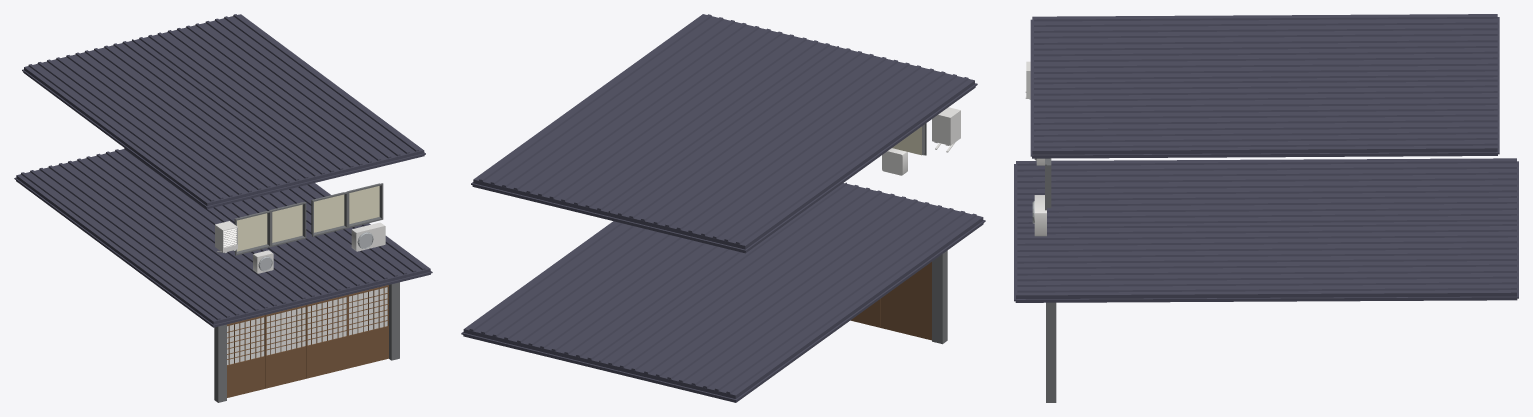
Rendered from building2.fbx.
The picture shows the model from 3 angles, left to right: view 1: azimuth 30°, elevation 25°; view 2: azimuth 150°, elevation 25°; view 3: azimuth 270°, elevation 25°; orthographic projection. The views are drawn at different scales.
Visible parts, largest first — view 1: Object030; view 2: Object030; view 3: Object030.
Boxes of the visible parts, x1,y1,x2,y2 form: Object030: (14,14,432,402); Object030: (461,14,985,402); Object030: (1014,14,1518,402).
Bounding box in the file's own units: 777 × 715 × 1221.
